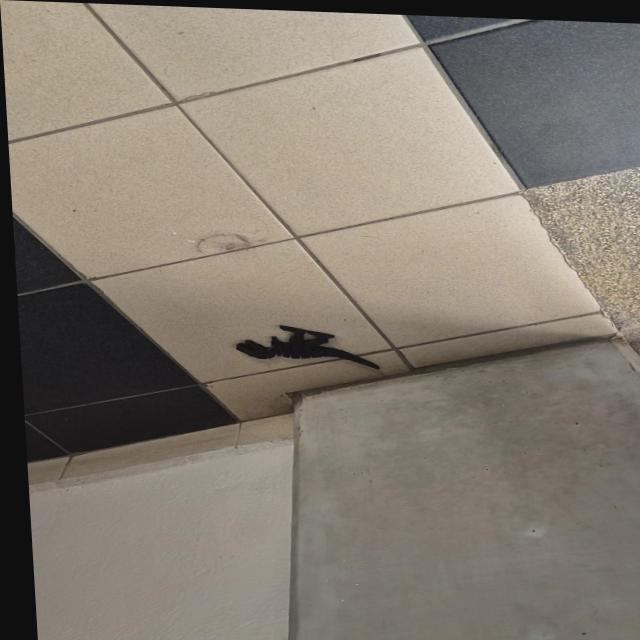dino: (234, 323, 381, 371)
